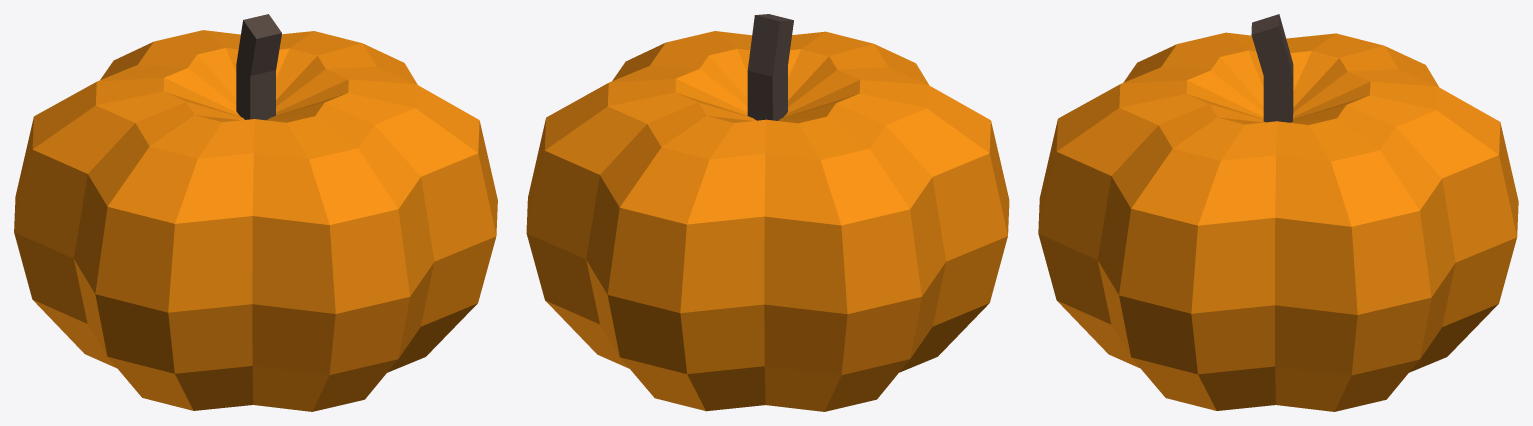
Rendered from Pumpkin_1.fbx.
The picture shows the model from 3 angles, left to right: view 1: azimuth 30°, elevation 25°; view 2: azimuth 150°, elevation 25°; view 3: azimuth 270°, elevation 25°; orthographic projection.
Parts seen in each view (by area): view 1: Pumpkin_1; view 2: Pumpkin_1; view 3: Pumpkin_1.
Boxes of the visible parts, box(x1,y1,x2,y2) form: Pumpkin_1: box(14, 14, 497, 411); Pumpkin_1: box(526, 14, 1009, 411); Pumpkin_1: box(1038, 14, 1518, 411).
Size of the model in its own units: 90.79 by 94.83 by 75.53.
